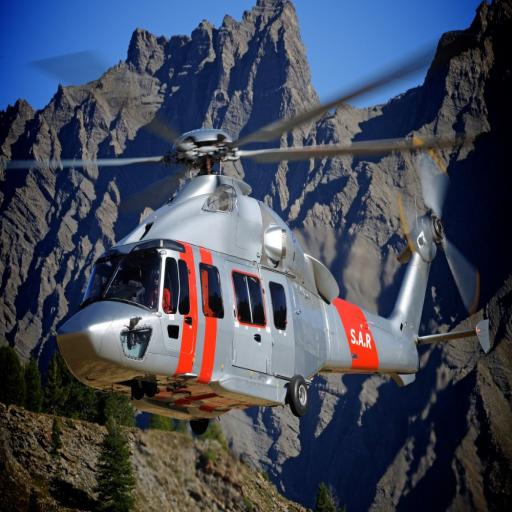helicopter: (2, 36, 512, 428)
